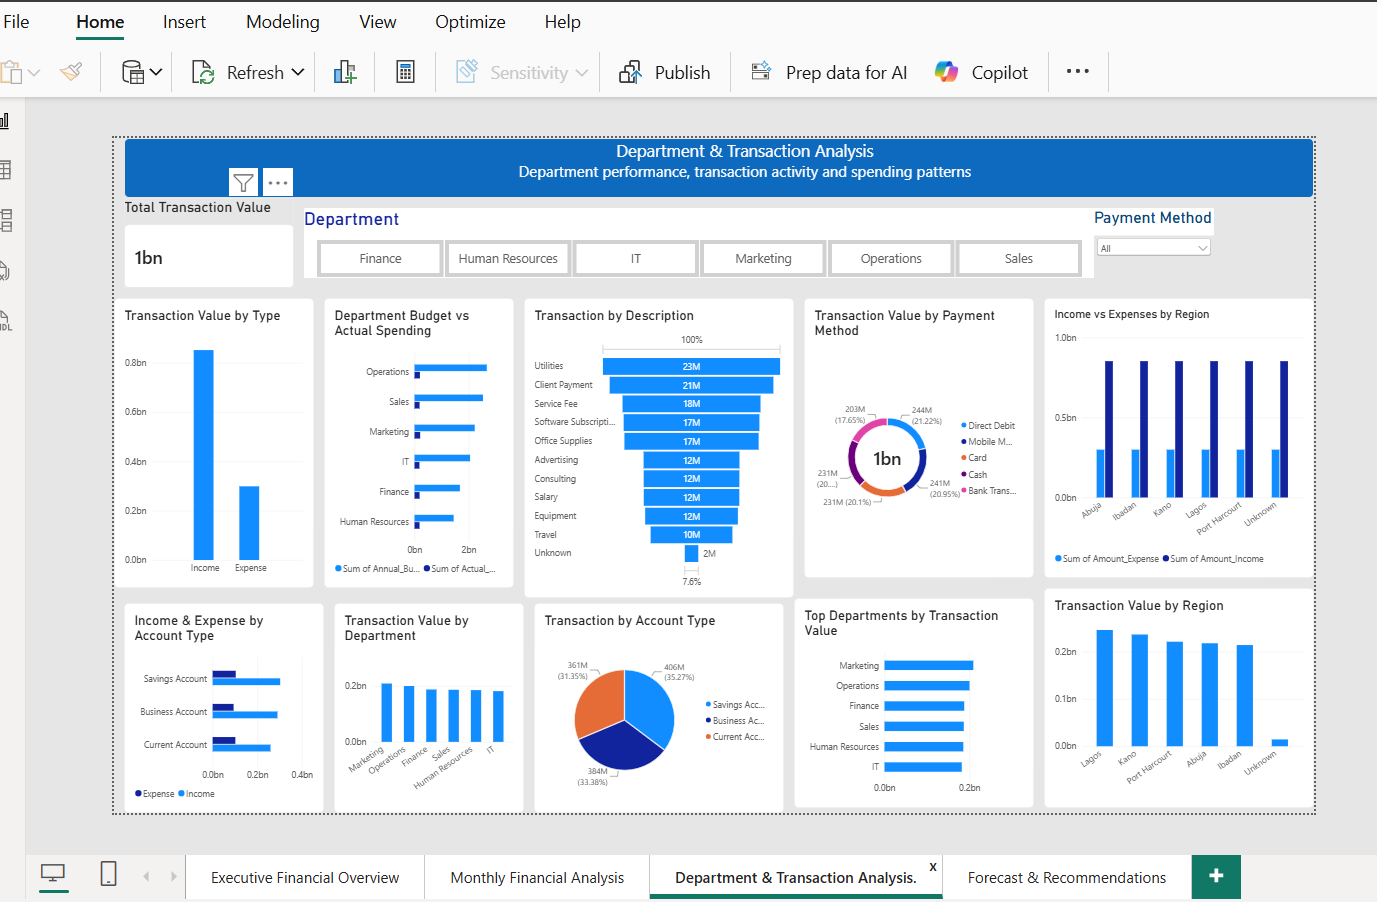

What the dashboard file says about the page in this screenshot:
{"tool":"powerbi","page":{"name":"Department & Transaction Analysis.","canvas":[1920,1080],"ordinal":2},"visuals":[{"type":"textbox","box":[16,0,1904,96],"z":0},{"type":"clusteredColumnChart","title":"Transaction Value by Department","fields":{"Category":["Department.Department"],"Y":["Sum(Clean_Data.Amount)"]},"box":[352,744,304,336],"z":1000},{"type":"cardVisual","title":"Total Transaction Value","fields":{"Data":["Sum(Department.Total_Amount)"]},"box":[16,96,272,144],"z":2000},{"type":"clusteredColumnChart","title":"Transaction Value by Type","fields":{"Category":["Transaction_Type.Transaction_Type"],"Y":["Sum(Transaction_Type.Total_Amount)"]},"box":[0,256,320,464],"z":3000},{"type":"slicer","title":"Department","fields":{"Values":["Clean_Data.Department"]},"box":[304,112,1264,112],"z":4000},{"type":"slicer","title":"Payment Method","fields":{"Values":["Clean_Data.Payment_Method"]},"box":[1568,112,192,112],"z":5000},{"type":"donutChart","title":"Transaction Value by Payment Method","fields":{"Category":["Clean_Data.Payment_Method"],"Y":["Sum(Clean_Data.Amount)"]},"box":[1104,256,368,448],"z":6000},{"type":"clusteredBarChart","title":"Top Departments by Transaction Value","fields":{"Category":["Clean_Data.Department"],"Y":["Sum(Clean_Data.Amount)"]},"box":[1088,736,384,336],"z":7000},{"type":"clusteredBarChart","title":"Department Budget vs Actual Spending","fields":{"Category":["Department_Budget.Department"],"Y":["Sum(Clean_Data.Annual_Budget)","Sum(Department_Budget.Actual_Spending)"]},"box":[336,256,304,464],"z":8000},{"type":"clusteredColumnChart","title":"Transaction Value by Region","fields":{"Category":["Clean_Data.Region"],"Y":["Sum(Clean_Data.Amount)"]},"box":[1488,720,432,352],"z":9000},{"type":"pieChart","title":"Transaction by Account Type","fields":{"Category":["Clean_Data.Account_Type"],"Y":["Sum(Clean_Data.Amount)"]},"box":[672,744,400,336],"z":10000},{"type":"clusteredBarChart","title":"Income & Expense by Account Type","fields":{"Category":["Clean_Data.Account_Type"],"Series":["Transaction_Type.Transaction_Type"],"Y":["Sum(Clean_Data.Amount)"]},"box":[16,744,320,336],"z":11000},{"type":"clusteredColumnChart","title":"Income vs Expenses by Region","fields":{"Category":["Clean_Data.Region"],"Y":["Sum(Monthly_Cash_Flow.Amount_Expense)","Sum(Monthly_Cash_Flow.Amount_Income)"]},"box":[1488,256,432,448],"z":12000},{"type":"funnel","title":"Transaction by Description","fields":{"Category":["Large_Transactions.Description"],"Y":["Sum(Large_Transactions.Amount)"]},"box":[656,256,432,480],"z":13000}]}

Visuals, with their boxes on the page's 1920x1080 design canvas (x1, y1, x2, y2). These are canvas units, not pixel positions in the 1377x902 screenshot, which may show the page scaled, cropped or inside an application window:
textbox: <bbox>16, 0, 1920, 96</bbox>
"Transaction Value by Department" clusteredColumnChart: <bbox>352, 744, 656, 1080</bbox>
"Total Transaction Value" cardVisual: <bbox>16, 96, 288, 240</bbox>
"Transaction Value by Type" clusteredColumnChart: <bbox>0, 256, 320, 720</bbox>
"Department" slicer: <bbox>304, 112, 1568, 224</bbox>
"Payment Method" slicer: <bbox>1568, 112, 1760, 224</bbox>
"Transaction Value by Payment Method" donutChart: <bbox>1104, 256, 1472, 704</bbox>
"Top Departments by Transaction Value" clusteredBarChart: <bbox>1088, 736, 1472, 1072</bbox>
"Department Budget vs Actual Spending" clusteredBarChart: <bbox>336, 256, 640, 720</bbox>
"Transaction Value by Region" clusteredColumnChart: <bbox>1488, 720, 1920, 1072</bbox>
"Transaction by Account Type" pieChart: <bbox>672, 744, 1072, 1080</bbox>
"Income & Expense by Account Type" clusteredBarChart: <bbox>16, 744, 336, 1080</bbox>
"Income vs Expenses by Region" clusteredColumnChart: <bbox>1488, 256, 1920, 704</bbox>
"Transaction by Description" funnel: <bbox>656, 256, 1088, 736</bbox>
